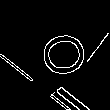O_W: (29, 32, 87, 83)
